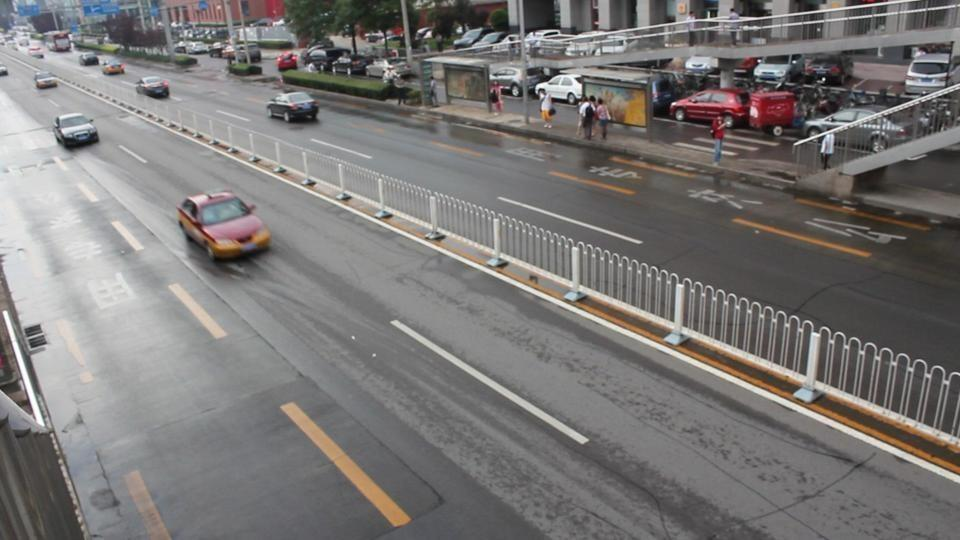car: (176, 188, 271, 262), (804, 108, 909, 153), (670, 89, 752, 126), (905, 52, 959, 94), (490, 66, 553, 99), (264, 90, 322, 123), (753, 53, 807, 88), (52, 112, 100, 150), (537, 75, 584, 104), (451, 29, 511, 51), (135, 76, 170, 98), (274, 50, 301, 71), (33, 72, 59, 90), (100, 59, 127, 76), (79, 52, 98, 65), (0, 65, 9, 77)
